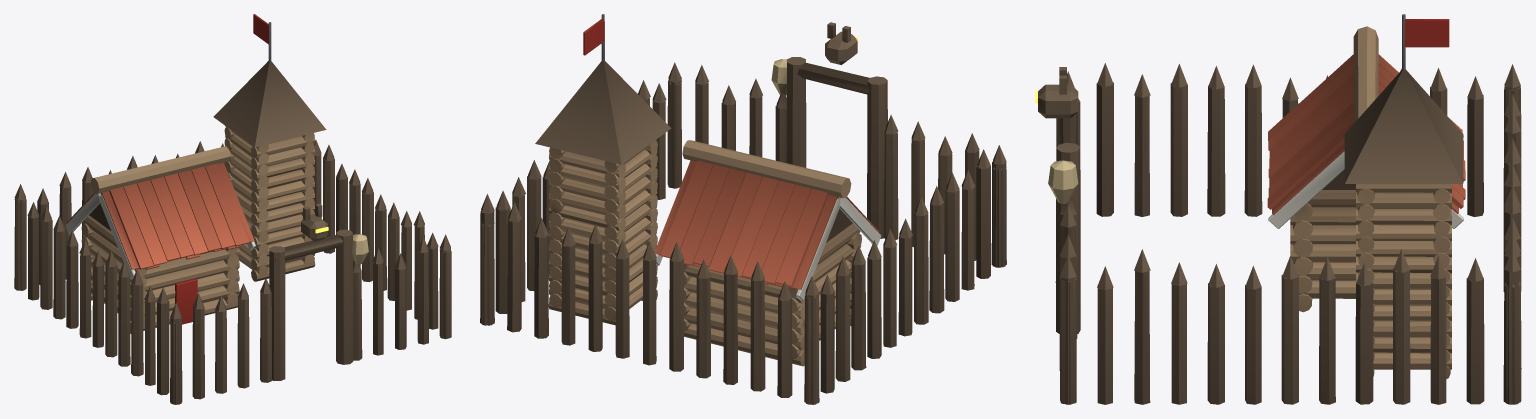
File: bld_oprichny_dvor.glb
3 renders of one model, left to right at view 1: azimuth 30°, elevation 25°; view 2: azimuth 150°, elevation 25°; view 3: azimuth 270°, elevation 25°, orthographic. The views are drawn at different scales.
Parts seen in each view (by area): view 1: oprichny_dvor; view 2: oprichny_dvor; view 3: oprichny_dvor.
Boxes of the visible parts, x1,y1,x2,y2 form: oprichny_dvor: (14, 14, 451, 404); oprichny_dvor: (480, 14, 1006, 404); oprichny_dvor: (1035, 14, 1521, 404).
Size of the model in its own units: 1.83 by 1.51 by 1.93.
